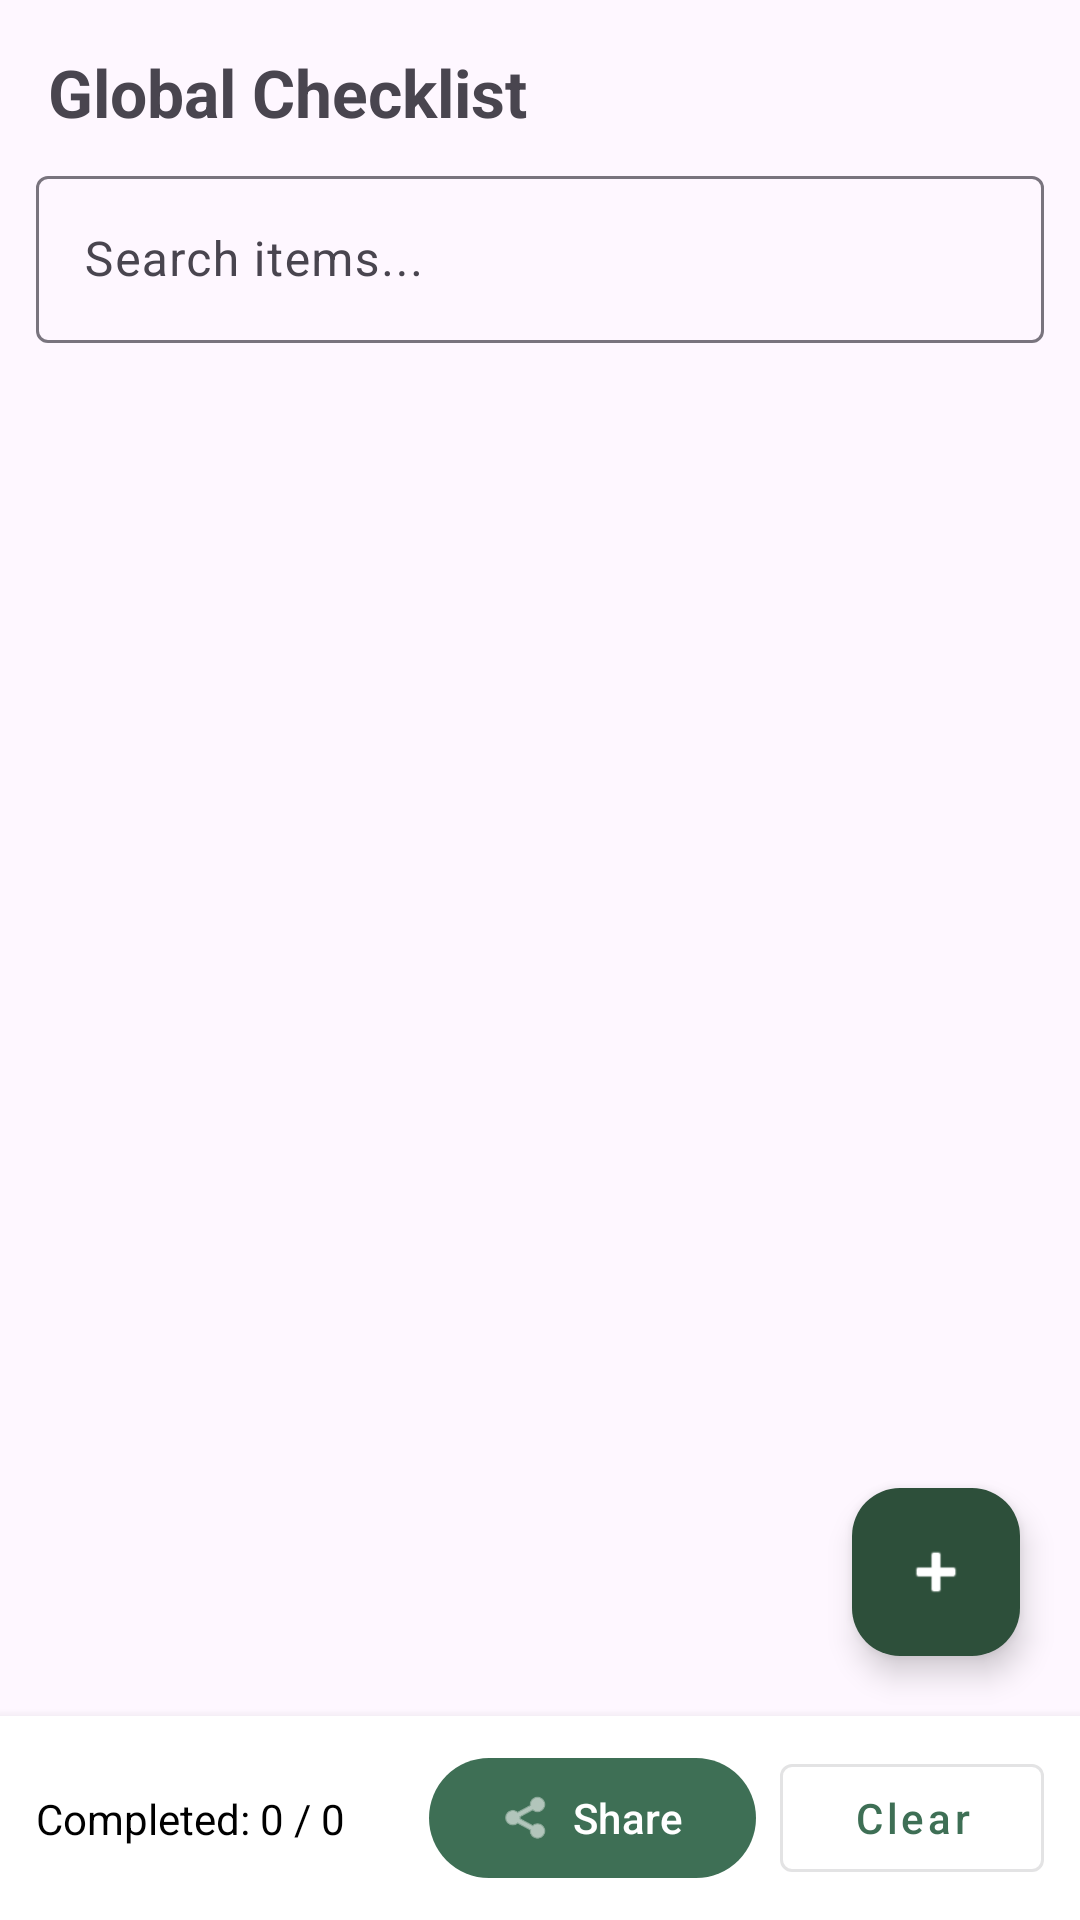

Screen size 1080px×1920px. Icon name, then its center in pixels as [x,y]:
Add checklist item: [936,1572]
